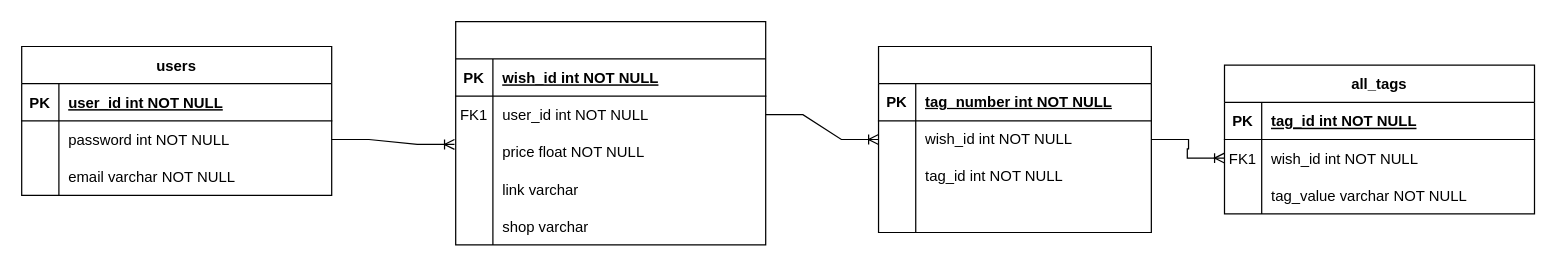
Image size: 1556x267. Some labels were removed from this diagram. The box of each missing label's shape, as (x1, y1, x2, y2) in pixels:
wish_tags: (877, 45, 1151, 232)
wishes: (454, 20, 766, 245)
